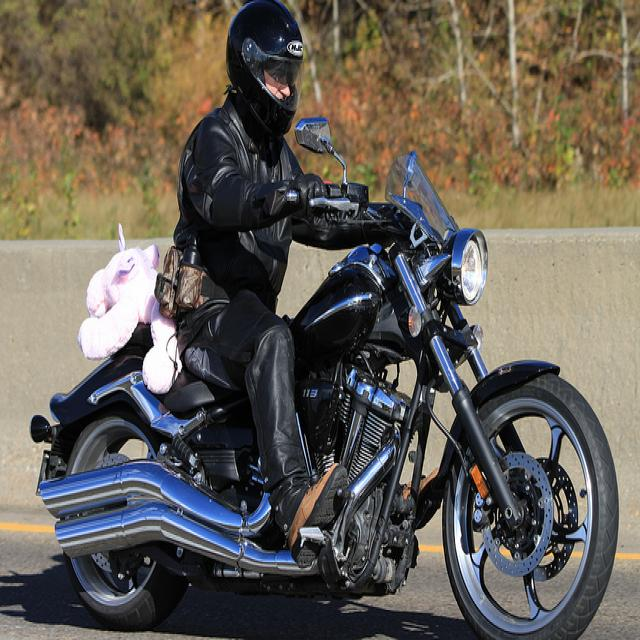motor: (31, 117, 621, 640)
